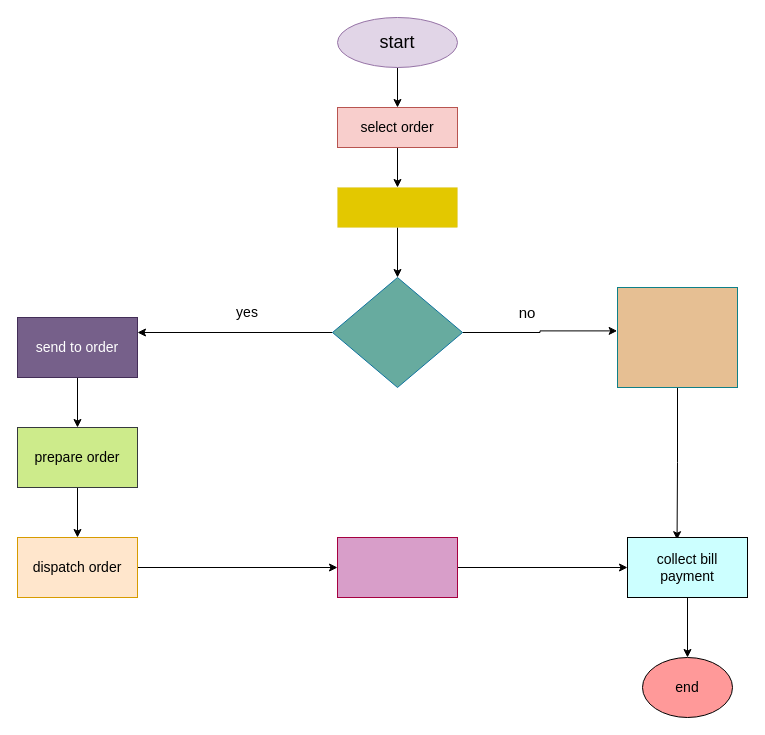
This 765x735 diagram has some shape labels left out. Each missing label, with the centre of its shape:
confirm order: pixel 397 207
display meal unavailable.select another order: pixel 677 337
display order: pixel 397 567
is order accepted ?: pixel 397 332
